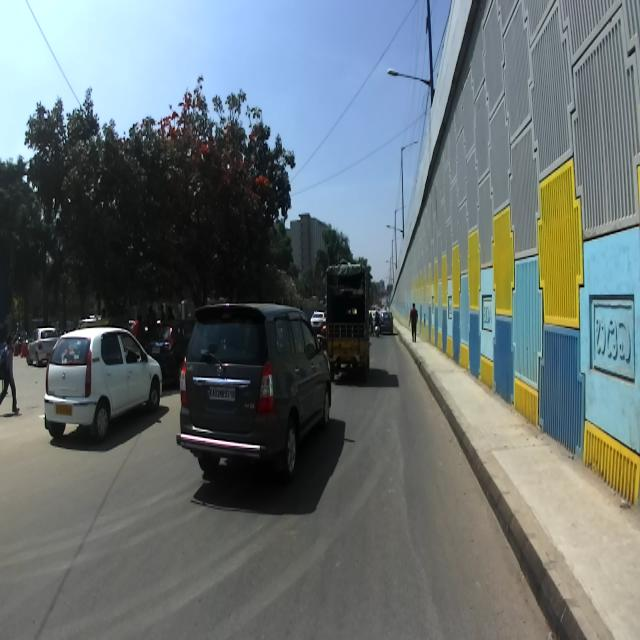car ahead at: (168, 299, 337, 485), (42, 322, 164, 446)
